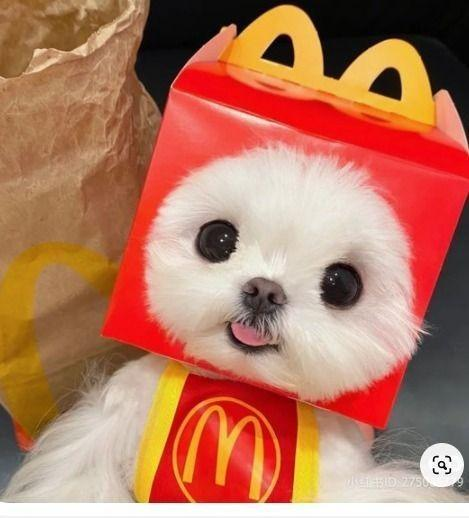puppy-dog: (5, 134, 444, 509)
